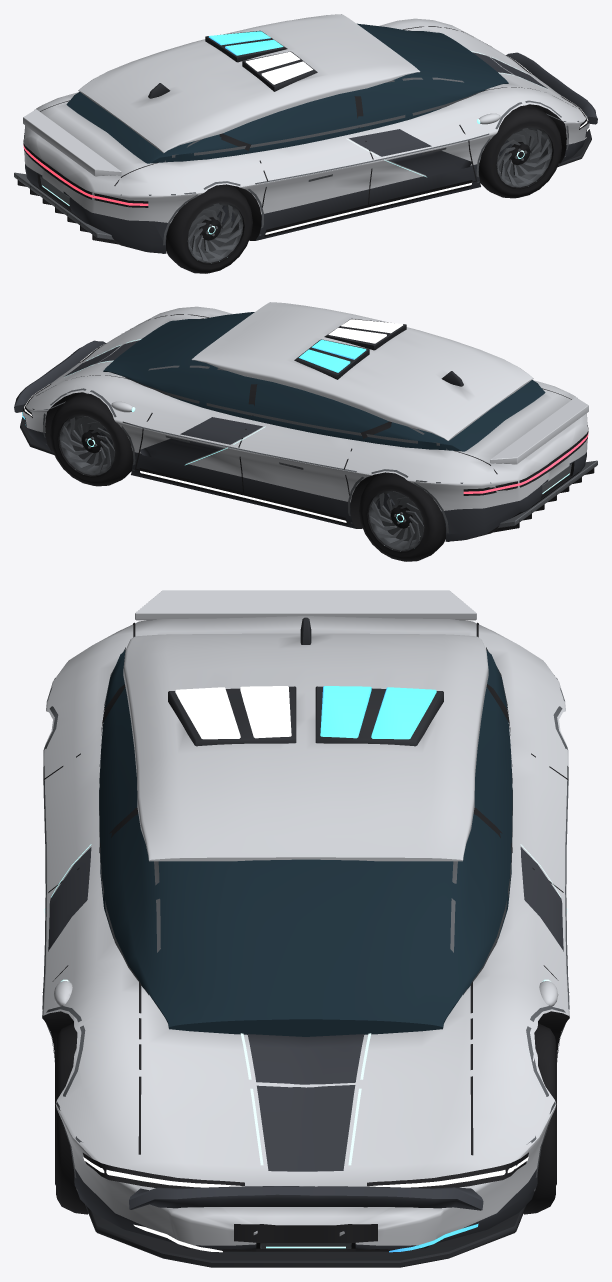
File: cruiser325.glb
The picture shows the model from 3 angles, top to bottom: view 1: azimuth 30°, elevation 25°; view 2: azimuth 150°, elevation 25°; view 3: azimuth 270°, elevation 25°; orthographic projection. The views are drawn at different scales.
Visible parts, largest first — view 1: f162-body.001, f162-glass, f325-livery-lower, f325-livery, f162-wheel-rr-tire, f162-wheel-fr-tire, f162-trim, f162-tire, f162-wheel-fr-trim, f162-wheel-rr-trim, f325-dark, f162-tire-arch (+4 smaller); view 2: f162-body.001, f162-glass, f325-livery-lower, f325-livery, f162-wheel-rl-tire, f162-wheel-fl-tire, f162-trim, f162-tire, f162-wheel-fl-trim, f162-wheel-rl-trim, f325-dark, f162-tire-arch (+4 smaller); view 3: f162-body.001, f162-glass, f325-livery, f325-dark, f162-tire, f325-barA, f325-barB, f162-trim, f325-livery-lower, f162-wheel-fl-tire, f162-wheel-fr-tire, f162-tire-arch (+2 smaller).
Boxes of the visible parts, x1,y1,x2,y2 form: f162-body.001: [23, 14, 589, 223]; f162-glass: [66, 23, 508, 163]; f325-livery-lower: [25, 130, 586, 253]; f325-livery: [217, 52, 597, 224]; f162-wheel-rr-tire: [166, 184, 252, 273]; f162-wheel-fr-tire: [479, 104, 561, 198]; f162-trim: [14, 24, 578, 253]; f162-tire: [17, 26, 588, 244]; f162-wheel-fr-trim: [496, 127, 552, 187]; f162-wheel-rr-trim: [187, 202, 243, 262]; f325-dark: [148, 30, 591, 167]; f162-tire-arch: [32, 104, 566, 252]; f162-body.001: [22, 302, 588, 511]; f162-glass: [103, 312, 545, 451]; f325-livery-lower: [25, 418, 586, 541]; f325-livery: [14, 340, 394, 512]; f162-wheel-rl-tire: [359, 472, 445, 561]; f162-wheel-fl-tire: [50, 392, 133, 486]; f162-trim: [32, 312, 597, 541]; f162-tire: [23, 314, 594, 532]; f162-wheel-fl-trim: [59, 415, 115, 475]; f162-wheel-rl-trim: [368, 490, 424, 550]; f325-dark: [20, 318, 463, 455]; f162-tire-arch: [45, 392, 579, 540]; f162-body.001: [42, 590, 569, 1245]; f162-glass: [99, 650, 512, 1036]; f325-livery: [48, 847, 563, 1210]; f325-dark: [85, 617, 526, 1267]; f162-tire: [42, 622, 569, 1243]; f325-barA: [320, 686, 478, 1252]; f325-barB: [133, 686, 291, 1252]; f162-trim: [42, 647, 569, 1248]; f325-livery-lower: [74, 1169, 537, 1249]; f162-wheel-fl-tire: [523, 1023, 556, 1214]; f162-wheel-fr-tire: [55, 1023, 88, 1214]; f162-tire-arch: [42, 1011, 569, 1251].
Size of the model in its own units: 4.32 by 1.21 by 1.91.
